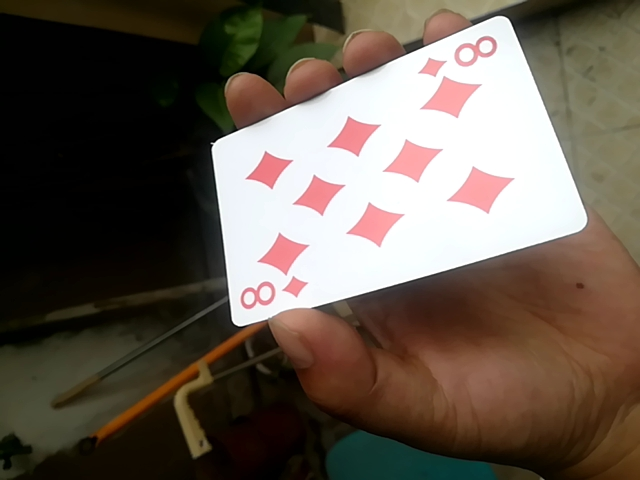fk 8: (204, 17, 585, 332)
